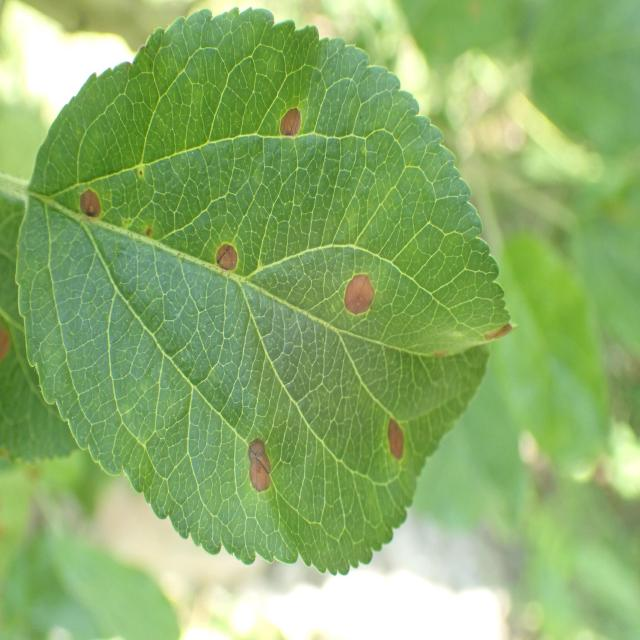Black Rot: (230, 423, 280, 506), (269, 95, 313, 160), (376, 402, 409, 485), (213, 224, 241, 305), (341, 271, 382, 322), (76, 162, 104, 230)
